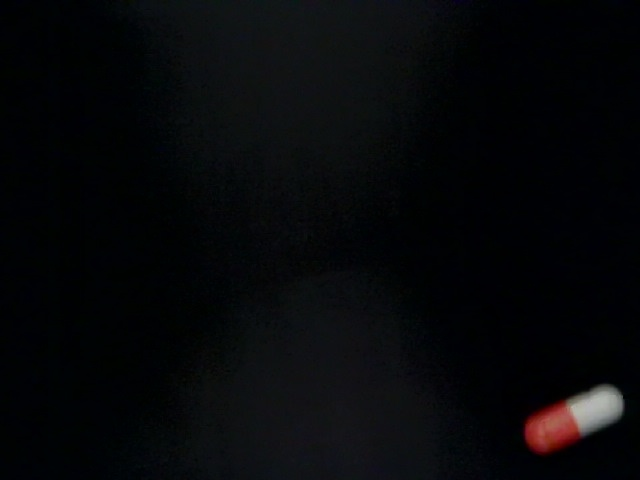YHLJ: (228, 197, 477, 317)
